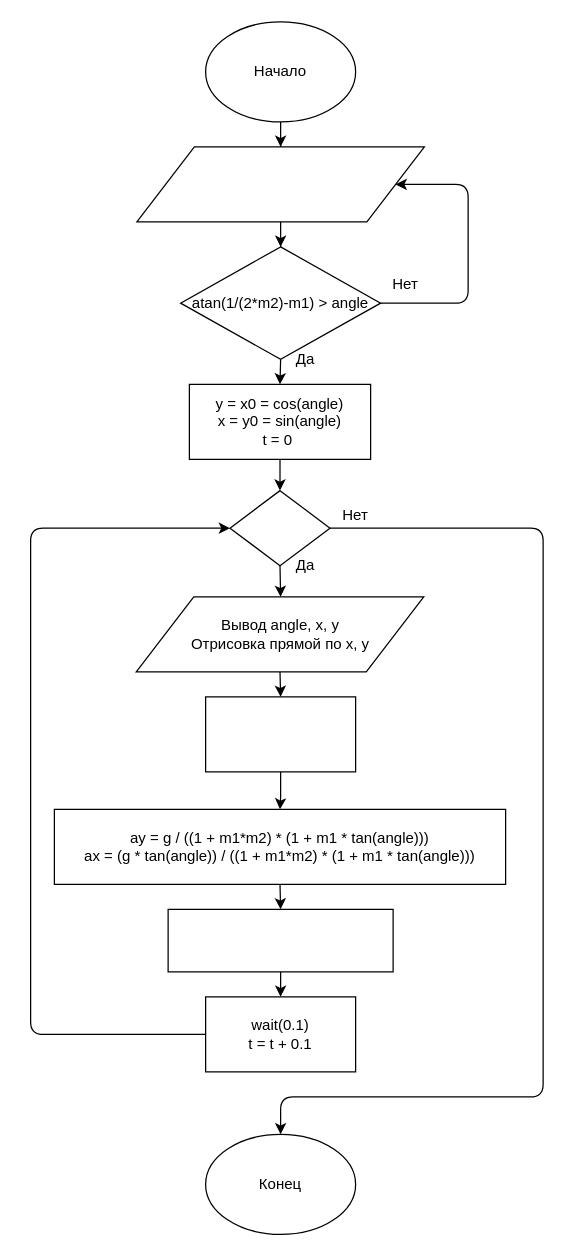
Image size: 575x1256. Some labels were removed from this diagram. Each missing label, with the box of its shape:
angle = atan(y/x): (204, 696, 356, 772)
x = x0 + 1/2 * ax * t * t y = y0 + 1/2 * ay * t * t: (167, 908, 393, 972)
y > 0: (229, 489, 330, 566)
Ввод m1, m2, angle, mass: (136, 146, 424, 222)
